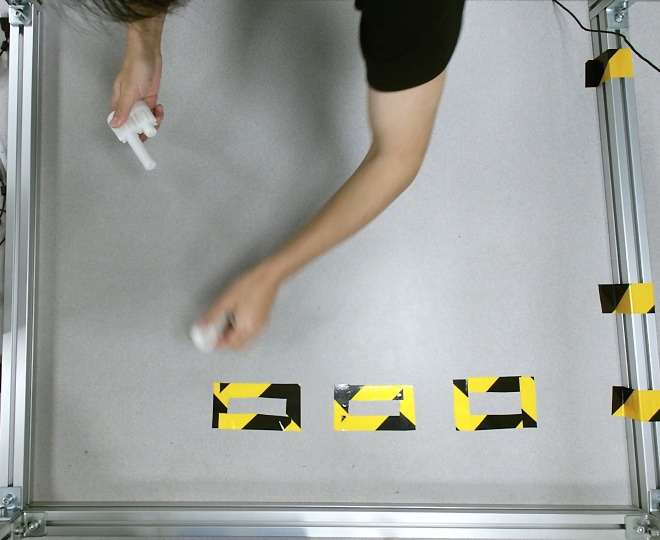stage_3: (107, 101, 157, 171)
